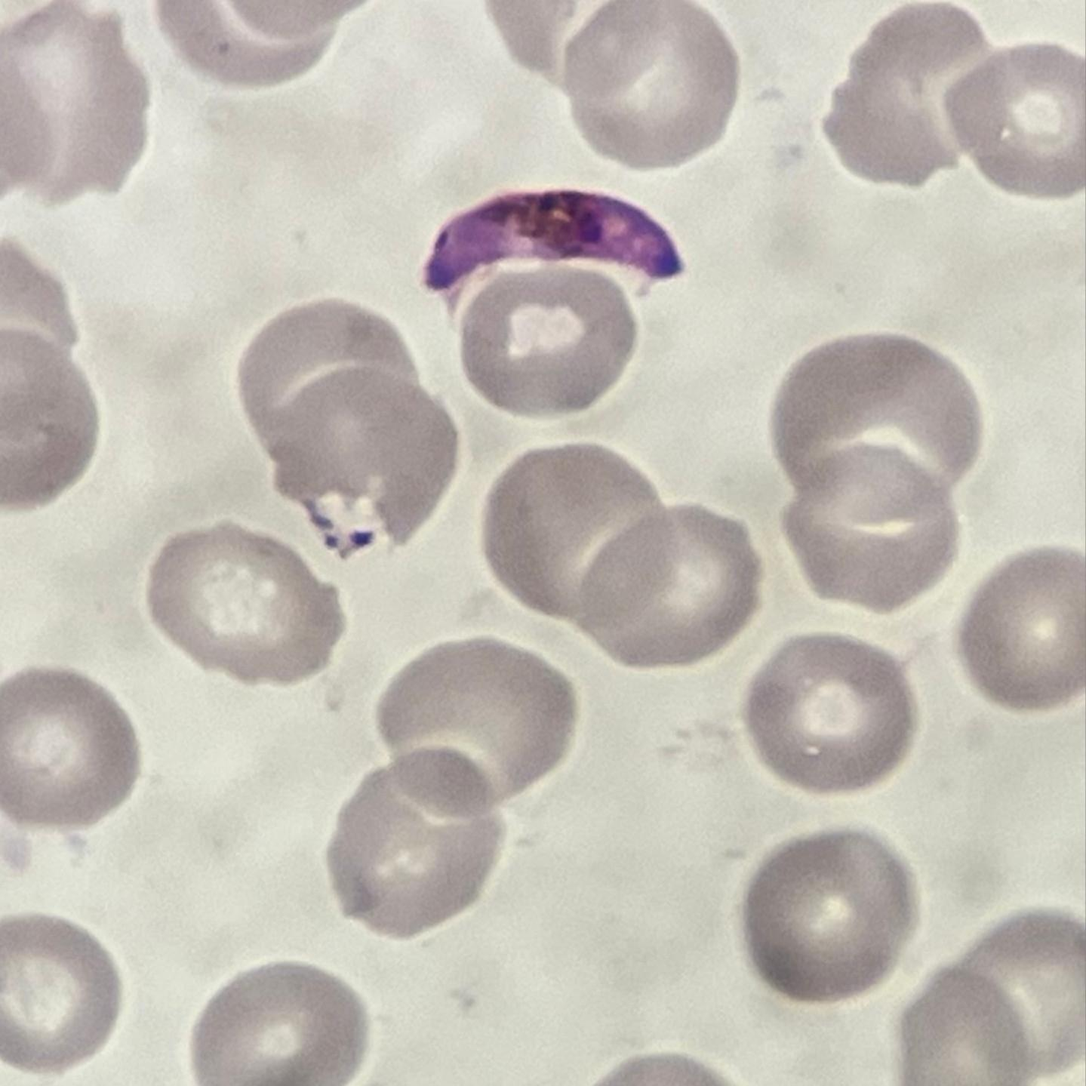Infected: (264, 366, 458, 554), (422, 187, 686, 300)
Uninfected: (768, 332, 982, 517), (377, 638, 577, 821), (323, 744, 505, 941), (483, 442, 677, 623), (823, 0, 1000, 185), (147, 525, 342, 683), (564, 0, 745, 170), (743, 825, 914, 1003), (0, 12, 152, 210), (579, 502, 760, 668), (775, 448, 958, 606), (743, 634, 917, 795), (236, 299, 426, 442), (458, 276, 636, 413), (0, 663, 143, 828), (191, 957, 369, 1086), (941, 42, 1086, 198), (960, 910, 1086, 1082), (958, 548, 1086, 710), (0, 912, 120, 1077), (0, 321, 100, 508), (904, 968, 1036, 1086)
